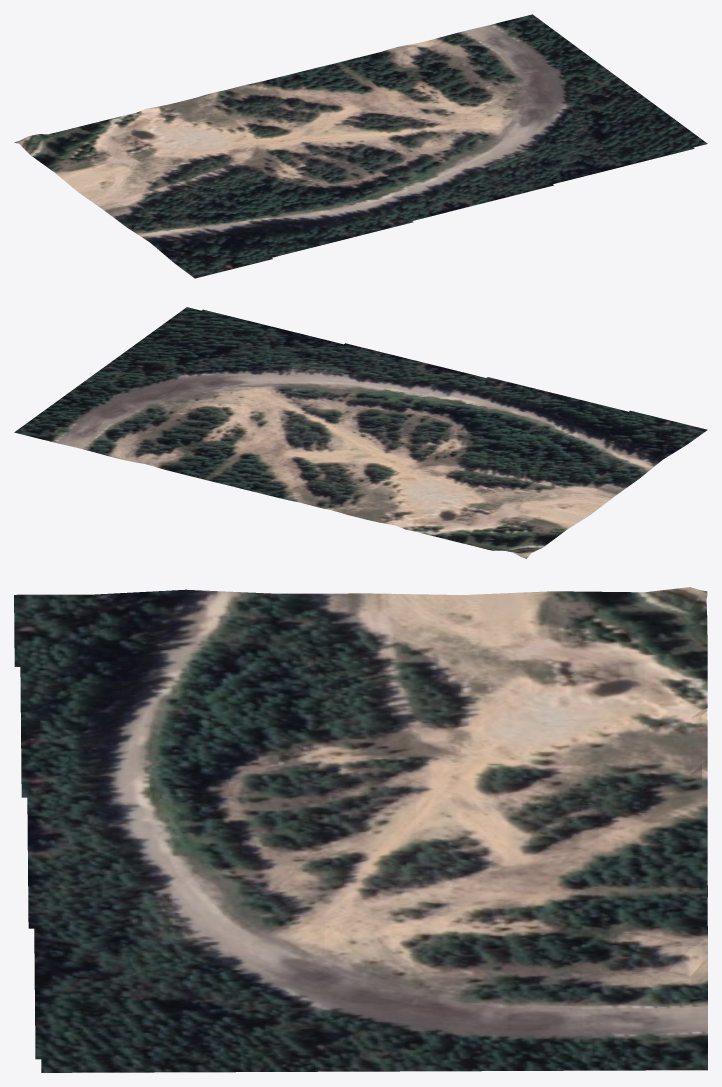
Rendered from map.obj.
3 views of the same model, one above another, from view 1: azimuth 30°, elevation 25°; view 2: azimuth 150°, elevation 25°; view 3: azimuth 270°, elevation 25° (orthographic). The views are drawn at different scales.
Parts seen in each view (by area): view 1: EXPORT_GOOGLE_SAT_WM; view 2: EXPORT_GOOGLE_SAT_WM; view 3: EXPORT_GOOGLE_SAT_WM.
Part boxes in pixels (<box>): EXPORT_GOOGLE_SAT_WM: <box>14,14,707,278</box>; EXPORT_GOOGLE_SAT_WM: <box>14,307,707,558</box>; EXPORT_GOOGLE_SAT_WM: <box>14,587,707,1072</box>.
Bounding box in the file's own units: 406 × 4.29 × 247.
